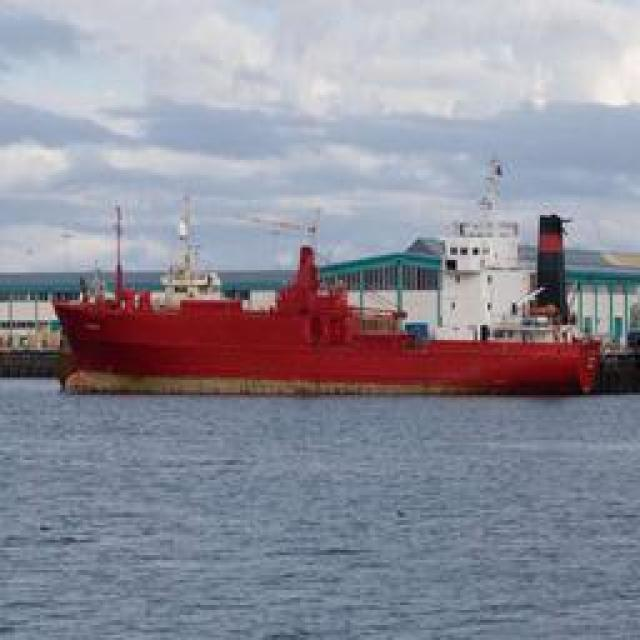CIV_Ship: (55, 225, 613, 398)
